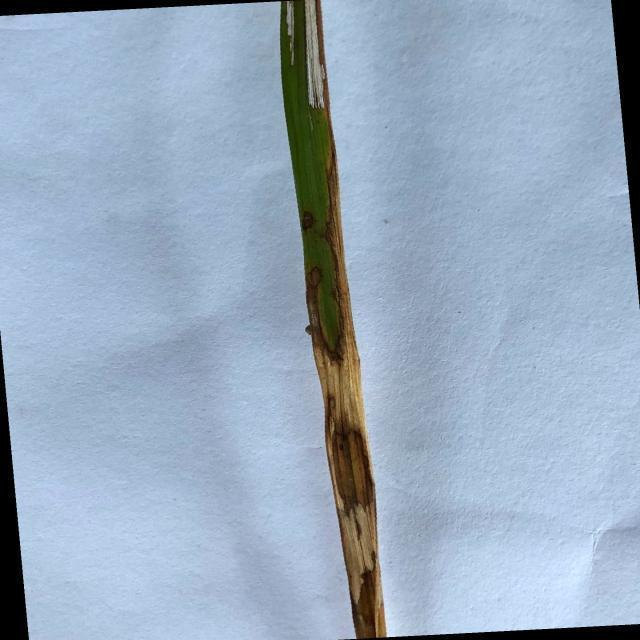Bacterial_Leaf_Blight: (317, 331, 388, 640), (327, 152, 353, 321), (306, 0, 331, 112), (306, 268, 334, 344), (285, 0, 299, 67)
